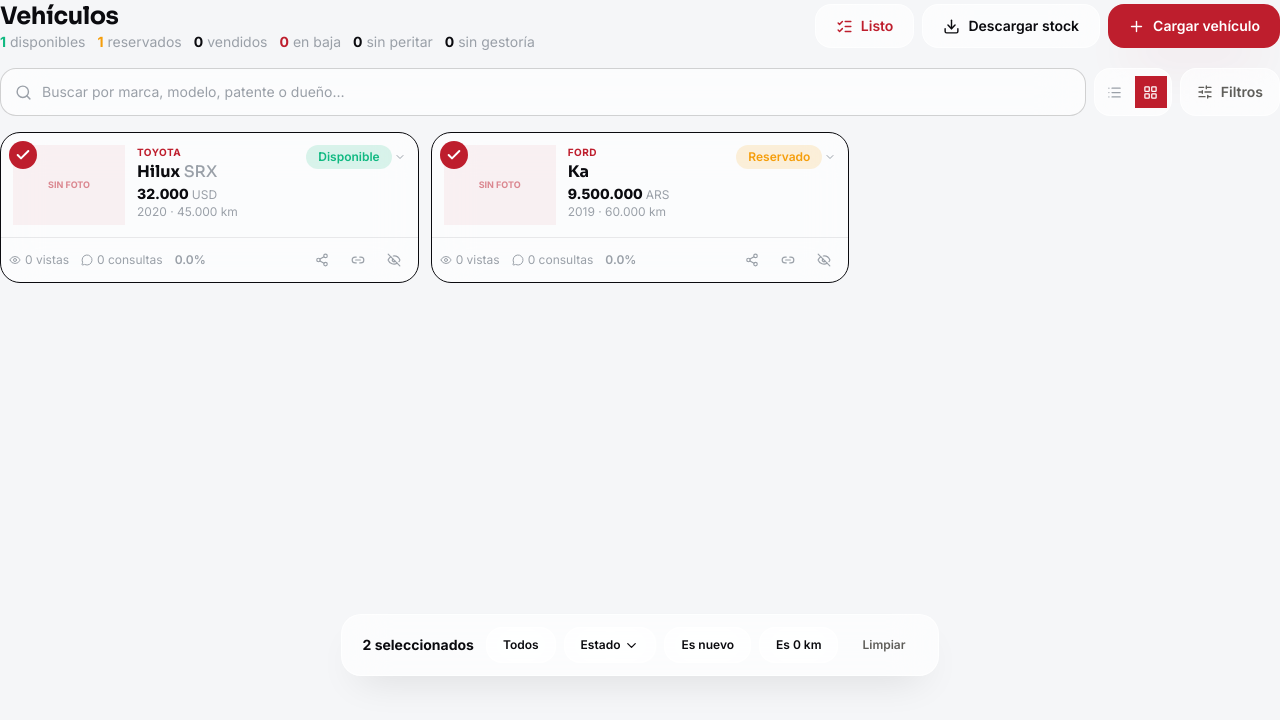
Test: SeleccionVehiculos en VehiculosListPage › Cancelar cierra el modal sin ejecutar nada
Click the button "Es 0 km". click: (799, 645)
box: [759,627,838,663]
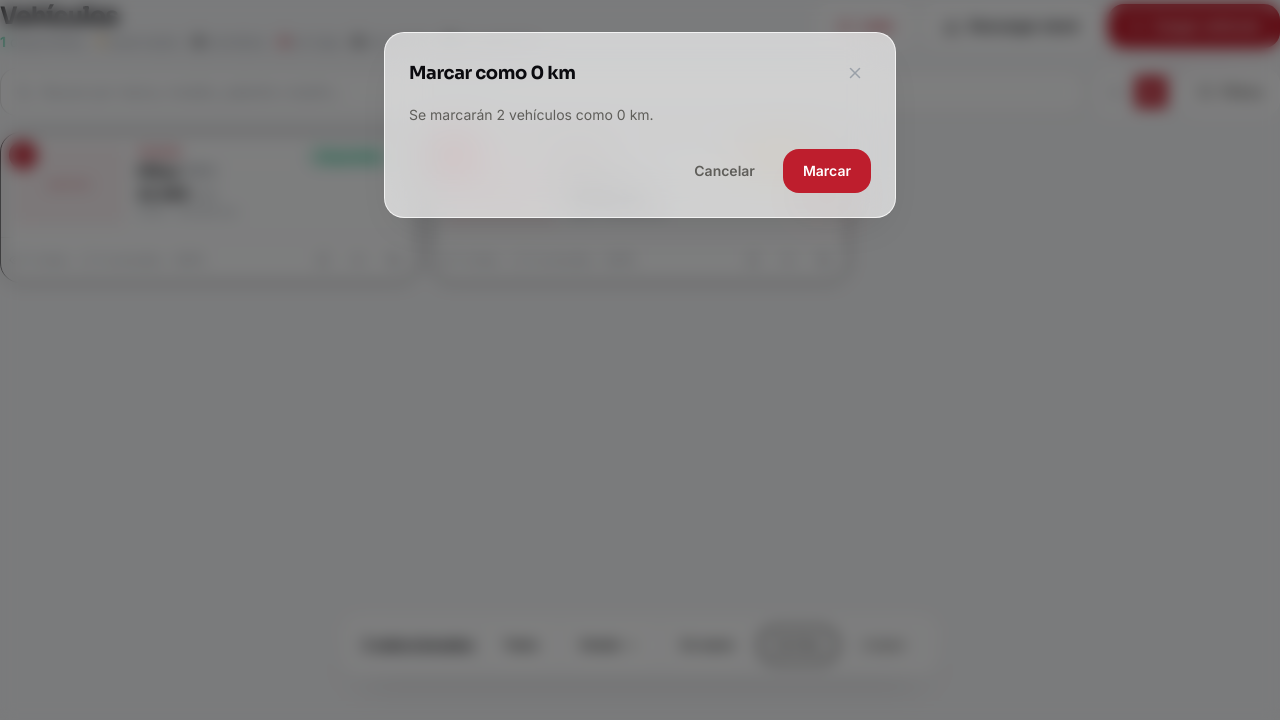
Check: the heading "Marcar como 0 km" is shown, box [409,59,576,87]
Click the button "Cancelar". click: (725, 171)
box: [674,149,775,193]
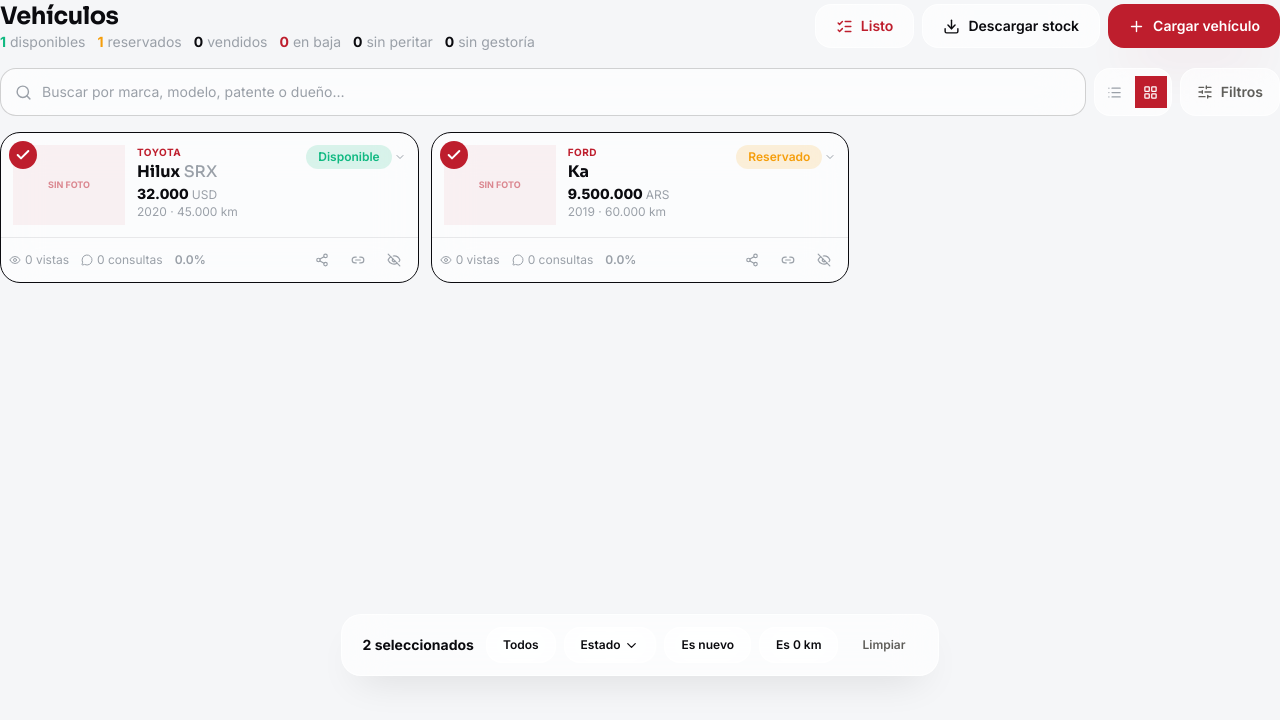
Check: the heading "Marcar como 0 km" is gone
